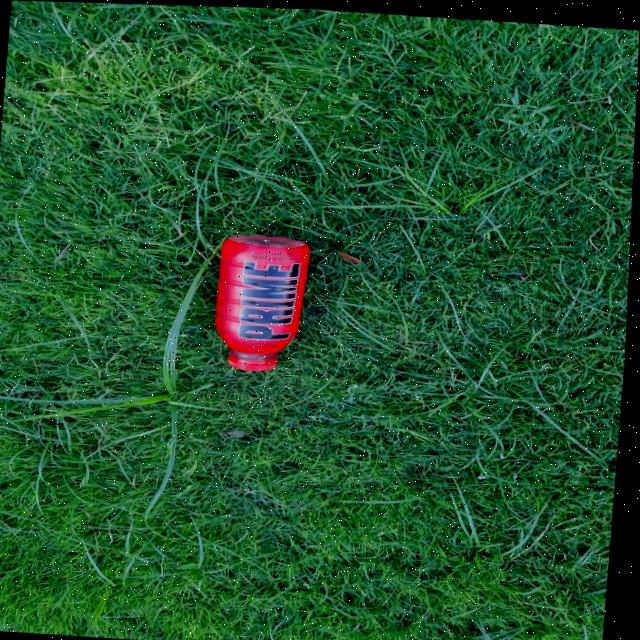Prime - Shitass: (213, 236, 316, 372)
